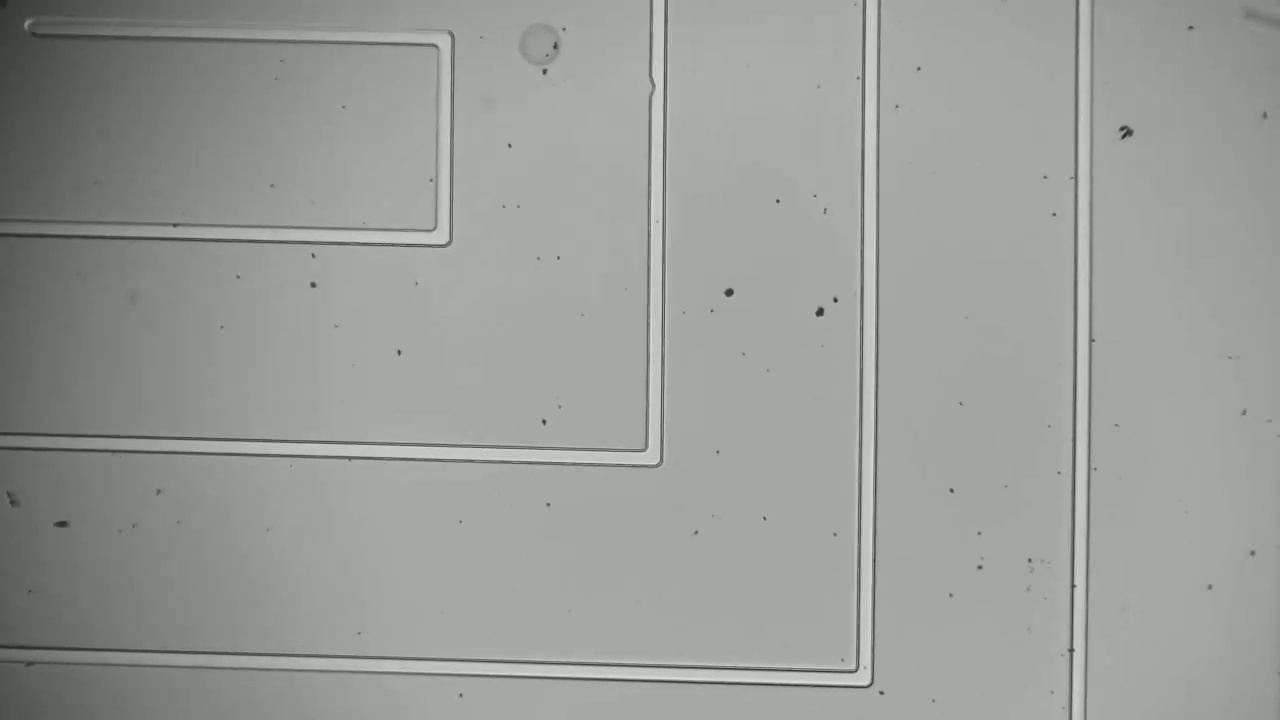edge_bite: (638, 69, 679, 106)
